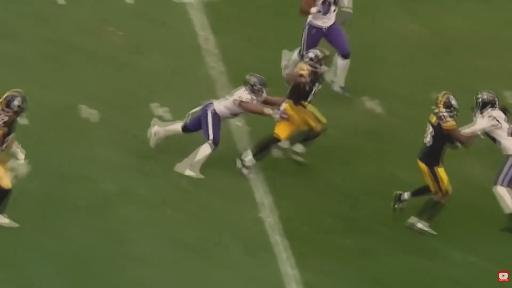Helmet: (0, 90, 27, 115), (435, 91, 458, 118), (473, 90, 499, 113), (303, 48, 328, 70), (244, 73, 267, 96)
Jersey: (462, 109, 511, 154), (418, 114, 456, 166), (213, 87, 265, 119), (287, 63, 321, 105), (308, 0, 339, 27), (0, 112, 16, 152)
Player: (148, 74, 283, 177), (393, 92, 474, 234), (237, 48, 327, 173), (462, 91, 511, 232), (282, 0, 352, 94), (0, 90, 26, 227)
